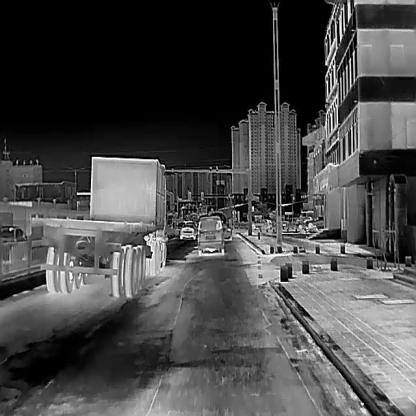car: (0, 224, 28, 265), (196, 216, 224, 254), (178, 223, 196, 239), (306, 214, 323, 229), (250, 218, 271, 228), (222, 223, 232, 240)
truck: (31, 156, 174, 297)
